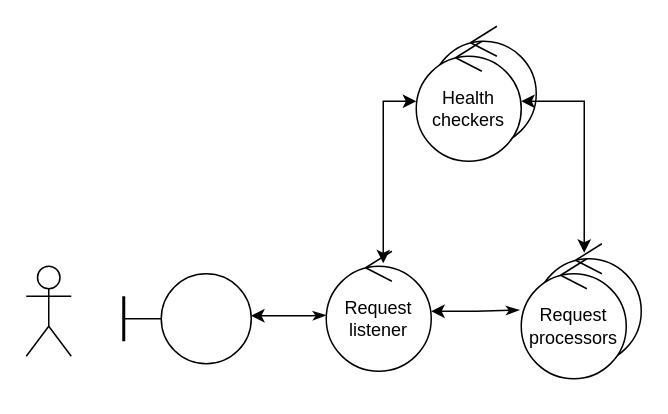
The diagram is 668 pixels wide and 414 high, and some of its shapes have lost their labels. The centre of each missing label's shape, as x and y in pixels:
Client: pixel 48 310
Socket: pixel 205 318
